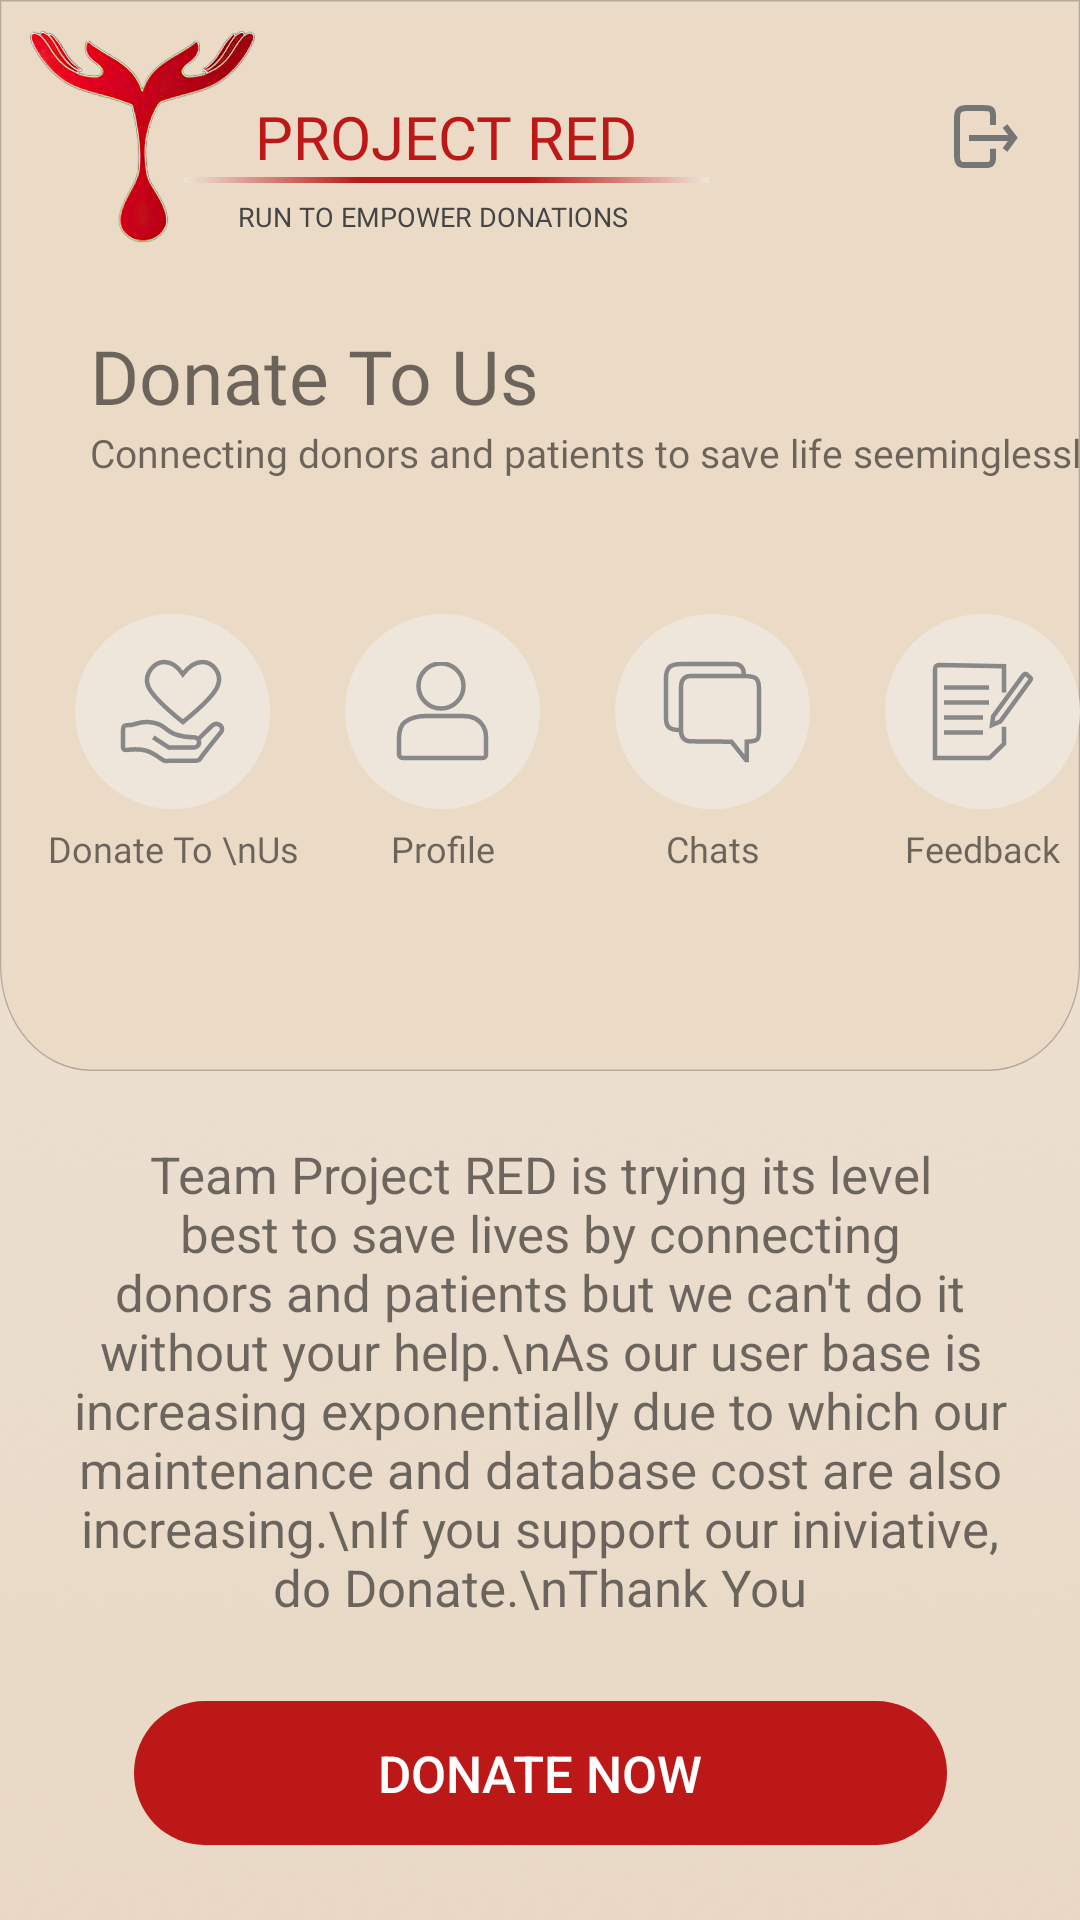

Icon bounding boxes for this 1080w x 1920h phone screenshot, format (x1, y1, x2, y2):
donation: (120, 659, 225, 764)
